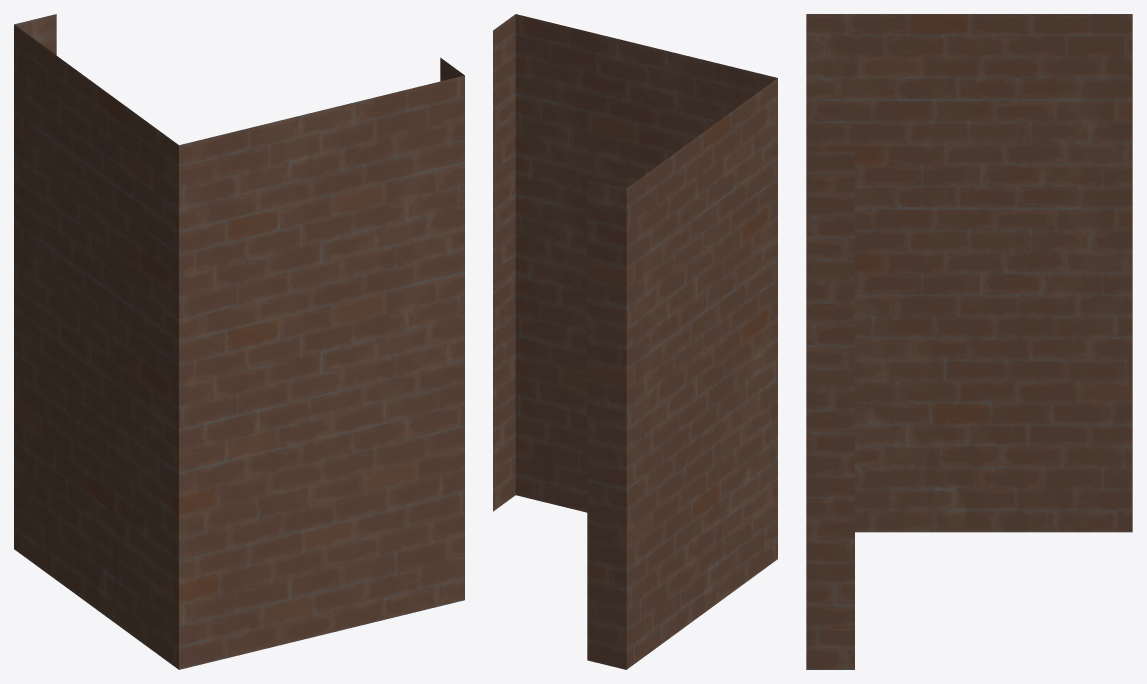
Rendered from brick_cornercolumn_center_half.glb.
3 renders of one model, left to right at view 1: azimuth 30°, elevation 25°; view 2: azimuth 150°, elevation 25°; view 3: azimuth 270°, elevation 25°, orthographic. The views are drawn at different scales.
Visible parts, largest first — view 1: Brick_CornerColumn_Center_Half; view 2: Brick_CornerColumn_Center_Half; view 3: Brick_CornerColumn_Center_Half.
Boxes of the visible parts, x1,y1,x2,y2 form: Brick_CornerColumn_Center_Half: (14,14,464,669); Brick_CornerColumn_Center_Half: (493,14,777,669); Brick_CornerColumn_Center_Half: (806,14,1132,669).
Size of the model in its own units: 1.14 by 2 by 1.14.
1 material, 1 textured.
